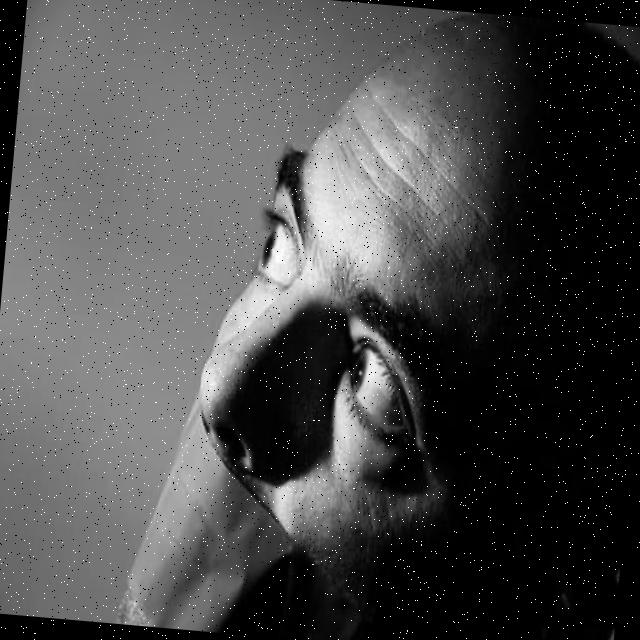Fear: (128, 30, 536, 640)
